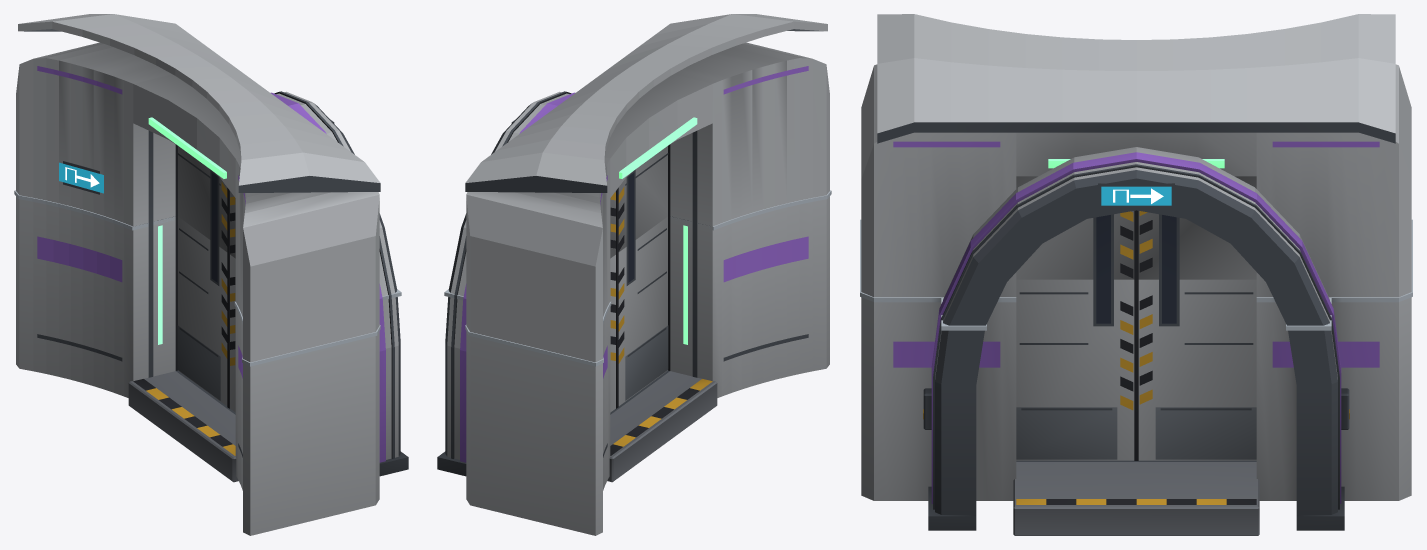
File: doorway_r325.glb
The picture shows the model from 3 angles, left to right: view 1: azimuth 30°, elevation 25°; view 2: azimuth 150°, elevation 25°; view 3: azimuth 270°, elevation 25°; orthographic projection. The views are drawn at different scales.
Visible parts, largest first — view 1: FrameTop, Frame, DoorR, DoorRTop, FrameCap, DoorL, Sign, Status, Lights, DoorLTop; view 2: FrameTop, Frame, DoorL, DoorLTop, FrameCap, DoorR, Status, Lights, DoorRTop; view 3: FrameTop, Frame, DoorL, DoorR, DoorLTop, DoorRTop, FrameCap, Sign.
Boxes of the visible parts, x1=… form: FrameTop: x1=16, y1=14, x2=397, y2=362; Frame: x1=16, y1=196, x2=408, y2=535; DoorR: x1=177, y1=216, x2=228, y2=407; DoorRTop: x1=177, y1=146, x2=228, y2=253; FrameCap: x1=14, y1=190, x2=401, y2=366; DoorL: x1=228, y1=254, x2=235, y2=412; Sign: x1=59, y1=119, x2=334, y2=194; Status: x1=148, y1=117, x2=226, y2=178; Lights: x1=158, y1=225, x2=162, y2=344; DoorLTop: x1=228, y1=189, x2=235, y2=258; FrameTop: x1=448, y1=14, x2=829, y2=362; Frame: x1=437, y1=196, x2=829, y2=535; DoorL: x1=617, y1=216, x2=668, y2=407; DoorLTop: x1=617, y1=146, x2=668, y2=253; FrameCap: x1=444, y1=190, x2=831, y2=366; DoorR: x1=610, y1=254, x2=617, y2=412; Status: x1=619, y1=117, x2=697, y2=178; Lights: x1=683, y1=225, x2=687, y2=344; DoorRTop: x1=610, y1=189, x2=617, y2=258; FrameTop: x1=861, y1=14, x2=1411, y2=325; Frame: x1=861, y1=297, x2=1411, y2=535; DoorL: x1=1016, y1=279, x2=1136, y2=460; DoorR: x1=1136, y1=279, x2=1256, y2=460; DoorLTop: x1=1016, y1=176, x2=1136, y2=279; DoorRTop: x1=1136, y1=176, x2=1256, y2=279; FrameCap: x1=860, y1=219, x2=1412, y2=330; Sign: x1=1098, y1=183, x2=1174, y2=208.
Size of the model in its own units: 1.62 by 2.93 by 3.46.
